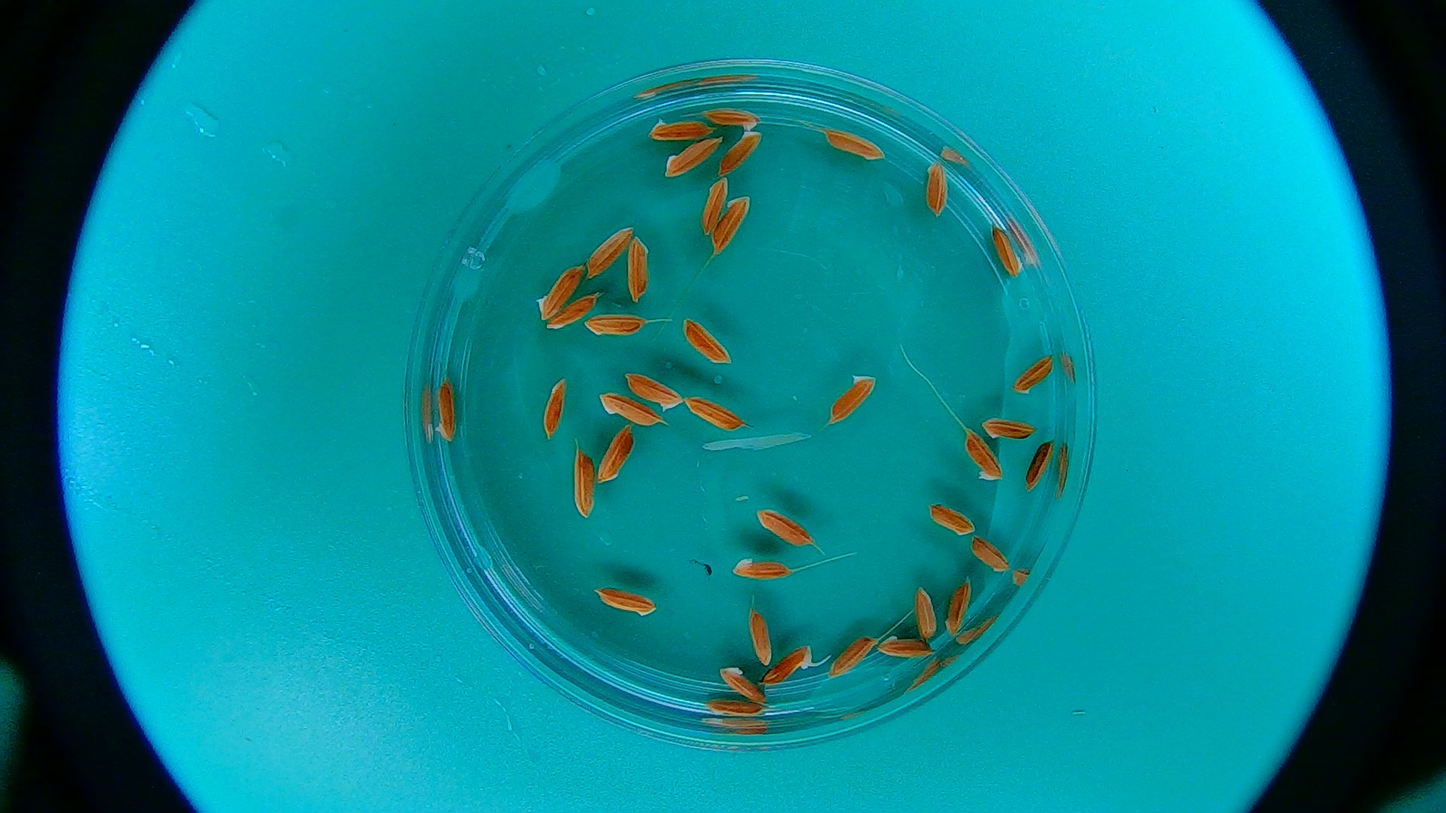no: (593, 386, 661, 433), (709, 190, 754, 259), (679, 313, 736, 367), (661, 134, 725, 181), (823, 628, 883, 678), (712, 127, 770, 178), (825, 629, 884, 679), (619, 371, 681, 417), (1011, 347, 1063, 400), (958, 425, 1005, 483), (756, 505, 813, 552), (984, 217, 1027, 278), (821, 126, 886, 166), (537, 263, 582, 319), (725, 552, 792, 589), (593, 583, 659, 620), (825, 373, 874, 422), (545, 288, 596, 333), (717, 661, 767, 706), (598, 425, 636, 483), (587, 230, 633, 276), (625, 233, 654, 305), (648, 114, 715, 145), (685, 395, 741, 431), (925, 500, 978, 538), (1022, 434, 1056, 493), (701, 102, 762, 134), (877, 634, 938, 663), (980, 410, 1035, 442), (922, 154, 946, 224), (435, 376, 459, 441), (589, 312, 646, 339), (972, 535, 1010, 574), (946, 579, 971, 638), (545, 373, 566, 443), (572, 446, 593, 516), (911, 586, 936, 644)
yes: (761, 643, 813, 687)
